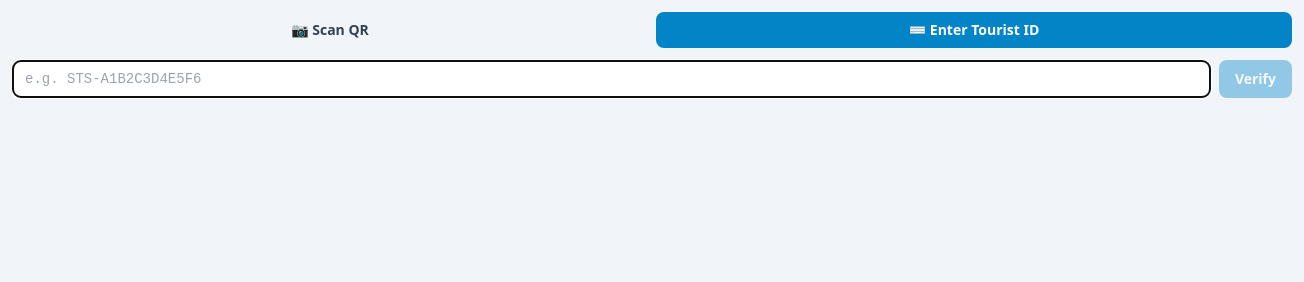
Scenario: TouristIdScanner › renders host-provided actions only for a verified result
The width and height of the screenshot is (1304, 282).
Type "STS-ABC123" into the field with placeholder "e.g. STS-A1B2C3D4E5F6" at {"x": 611, "y": 79}, box [12,60,1211,98]
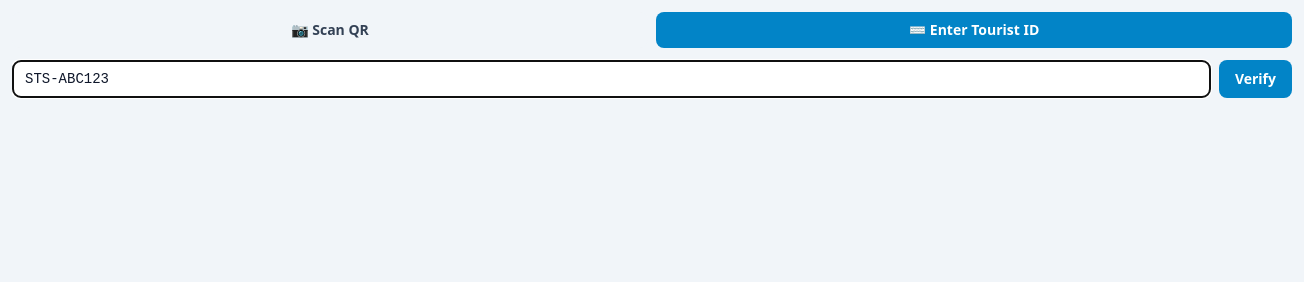
Click the button "Verify" at {"x": 1255, "y": 79}, box [1219,60,1292,98]
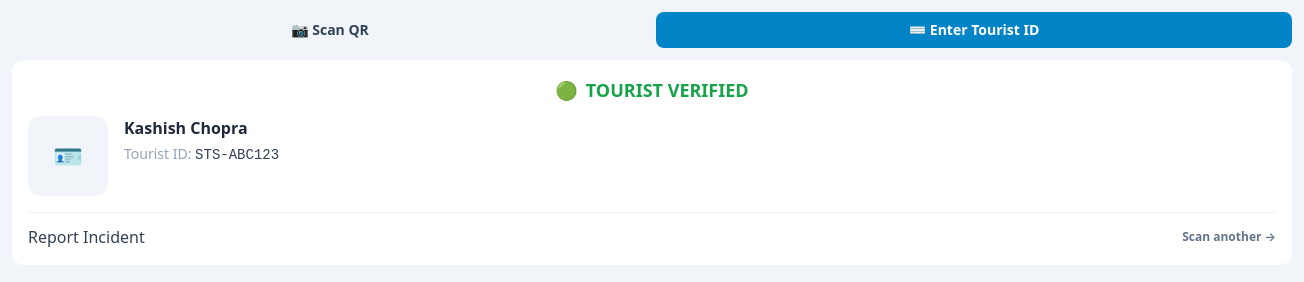
Expected: the button "Report Incident" is shown, [28,225,145,249]
